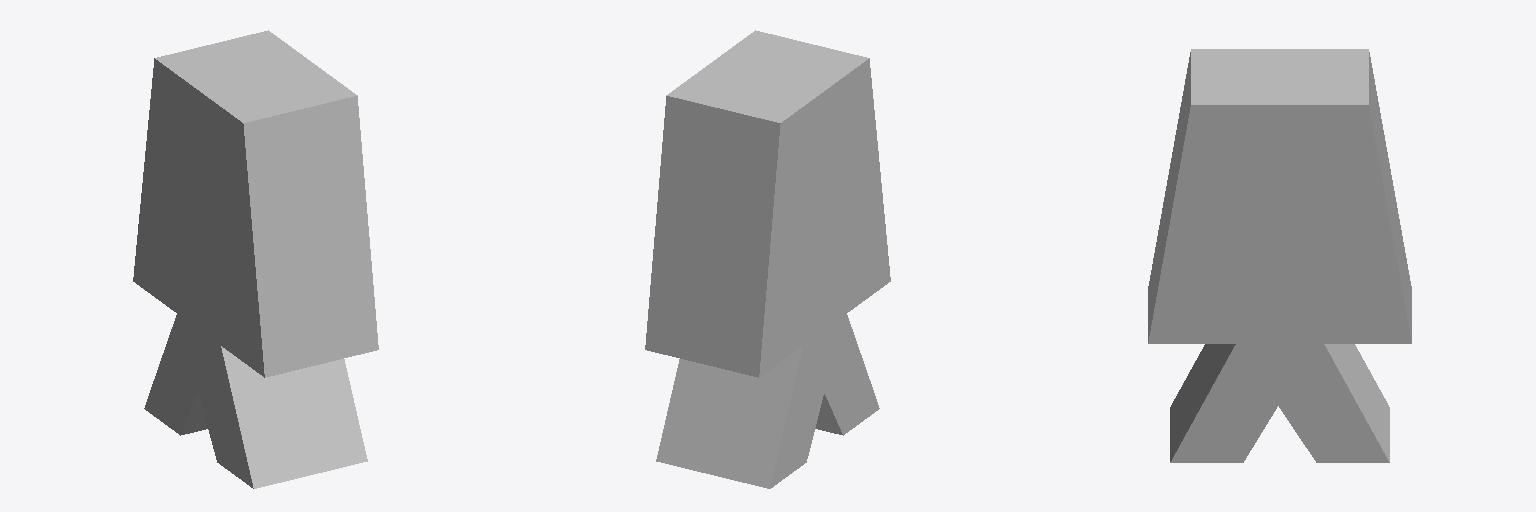
Rendered from lamp.obj.
The picture shows the model from 3 angles: view 1: azimuth 30°, elevation 25°; view 2: azimuth 150°, elevation 25°; view 3: azimuth 270°, elevation 25°; orthographic projection.
Visible parts, largest first — view 1: Cube; view 2: Cube; view 3: Cube.
Boxes of the visible parts, x1=… form: Cube: x1=133, y1=30, x2=378, y2=488; Cube: x1=645, y1=30, x2=890, y2=488; Cube: x1=1148, y1=49, x2=1411, y2=462.
Bounding box in the file's own units: 1 × 3 × 2.